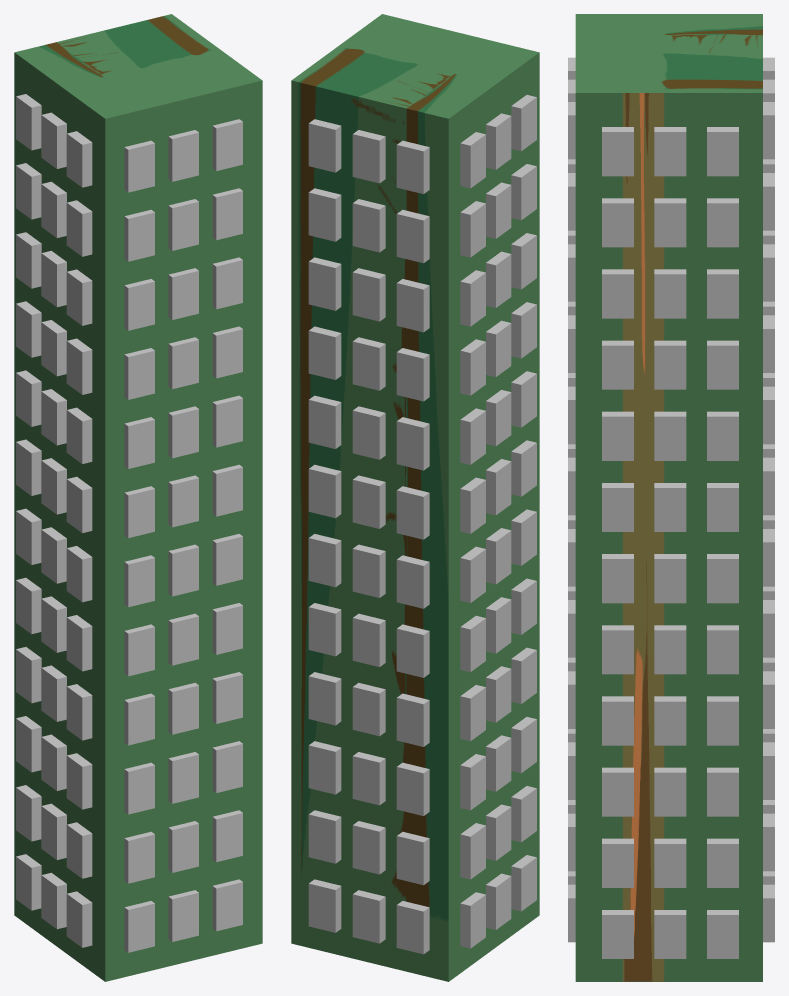
File: buildingBackground2FBX_VAR2.fbx
3 renders of one model, left to right at view 1: azimuth 30°, elevation 25°; view 2: azimuth 150°, elevation 25°; view 3: azimuth 270°, elevation 25°, orthographic. The views are drawn at different scales.
Parts seen in each view (by area): view 1: building2Base, building2window86, building2window1, building2window2, building2window3, building2window61, building2window62, building2window85, building2window26, building2window27, building2window63, building2window87 (+61 smaller); view 2: building2Base, building2window29, building2window5, building2window64, building2window114, building2window137, building2window4, building2window6, building2window17, building2window28, building2window30, building2window40 (+61 smaller); view 3: building2Base, building2window35, building2window107, building2window11, building2window23, building2window47, building2window59, building2window83, building2window95, building2window119, building2window131, building2window71 (+41 smaller).
Part boxes in pixels (left/top/right/bottom): building2Base: left=14, top=14, right=262, bottom=981; building2window86: left=168, top=613, right=198, bottom=665; building2window1: left=124, top=140, right=154, bottom=192; building2window2: left=168, top=130, right=198, bottom=181; building2window3: left=212, top=119, right=242, bottom=171; building2window61: left=124, top=486, right=154, bottom=538; building2window62: left=168, top=475, right=198, bottom=527; building2window85: left=124, top=624, right=154, bottom=676; building2window26: left=168, top=268, right=198, bottom=319; building2window27: left=212, top=257, right=242, bottom=309; building2window63: left=212, top=464, right=242, bottom=516; building2window87: left=212, top=603, right=242, bottom=654; building2Base: left=291, top=14, right=539, bottom=981; building2window29: left=352, top=268, right=385, bottom=321; building2window5: left=352, top=130, right=385, bottom=183; building2window64: left=396, top=486, right=429, bottom=539; building2window114: left=308, top=741, right=341, bottom=794; building2window137: left=352, top=890, right=385, bottom=943; building2window4: left=396, top=140, right=429, bottom=193; building2window6: left=308, top=119, right=341, bottom=172; building2window17: left=352, top=199, right=385, bottom=252; building2window28: left=396, top=279, right=429, bottom=332; building2window30: left=308, top=257, right=341, bottom=310; building2window40: left=396, top=348, right=429, bottom=401; building2Base: left=575, top=14, right=762, bottom=981; building2window35: left=654, top=269, right=686, bottom=318; building2window107: left=654, top=696, right=686, bottom=745; building2window11: left=654, top=127, right=686, bottom=176; building2window23: left=654, top=198, right=686, bottom=247; building2window47: left=654, top=340, right=686, bottom=389; building2window59: left=654, top=411, right=686, bottom=460; building2window83: left=654, top=554, right=686, bottom=603; building2window95: left=654, top=625, right=686, bottom=674; building2window119: left=654, top=767, right=686, bottom=816; building2window131: left=654, top=838, right=686, bottom=887; building2window71: left=654, top=483, right=686, bottom=531.
Size of the model in its own units: 202 by 937 by 198.
